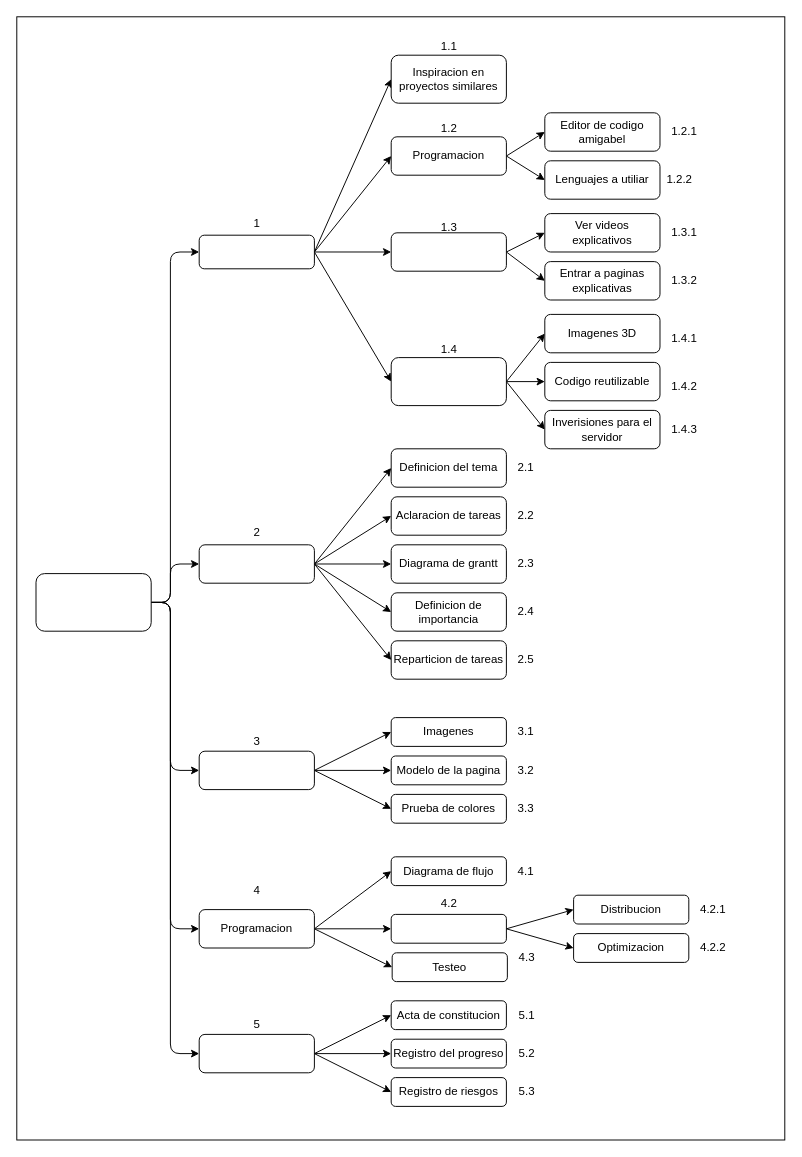
Image size: 802x1157. Some labels were removed from this diagram. Each missing label, with the centre of its shape:
Codigo: [448,928]
Contenido explicativo: [448,251]
Diseño: [256,770]
Documentacion: [256,1053]
Investigacion: [256,251]
Organizacion: [256,563]
Proyecto: [93,602]
Recoleccion de materiales que utilizaran: [448,381]
